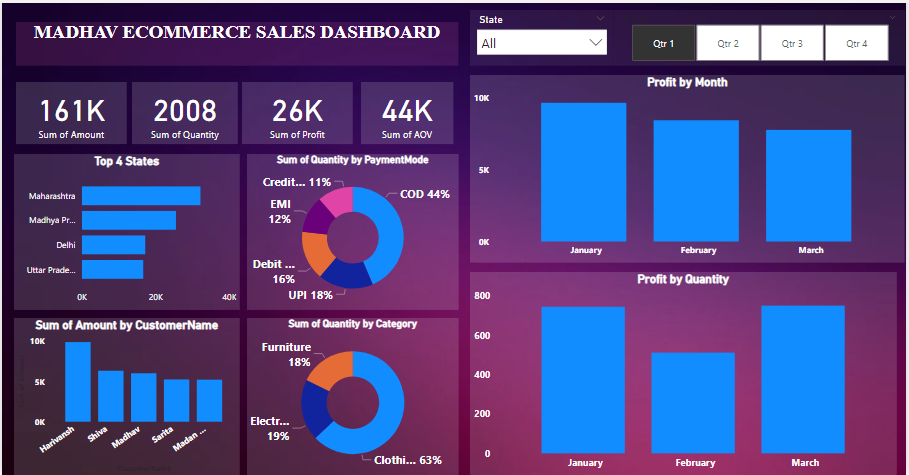

What the dashboard file says about the page in this screenshot:
{"tool":"powerbi","page":{"name":"Page 1","canvas":[1280,720],"ordinal":0},"visuals":[{"type":"textbox","box":[20.2,77.5,626.5,62.3],"z":0},{"type":"actionButton","box":[0,0,100,40],"z":1000},{"type":"columnChart","title":"Profit by Month","fields":{"Y":["Details.Profit"],"Category":["Orders.Order Date.Variation.Date Hierarchy.Month"]},"box":[663.6,153.3,616.4,266.1],"z":2000},{"type":"columnChart","title":"Profit by Quantity","fields":{"Category":["Orders.Order Date.Variation.Date Hierarchy.Month"],"Y":["Details.Quantity"]},"box":[663.6,432.8,604.6,288],"z":3000},{"type":"donutChart","fields":{"Y":["Details.Quantity"],"Category":["Details.Category"]},"box":[346.9,496.8,299.8,224],"z":4000},{"type":"donutChart","fields":{"Y":["Details.Quantity"],"Category":["Details.PaymentMode"]},"box":[346.9,264.4,299.8,220.6],"z":5000},{"type":"card","fields":{"Values":["Details.Amount"]},"box":[20.2,163.4,156.6,87.6],"z":6000},{"type":"card","fields":{"Values":["Details.Quantity"]},"box":[183.6,163.4,149.9,87.6],"z":7000},{"type":"card","fields":{"Values":["Details.Profit"]},"box":[340.2,163.4,156.6,87.6],"z":8000},{"type":"card","fields":{"Values":["Details.AOV"]},"box":[508.6,163.4,131.4,87.6],"z":9000},{"type":"barChart","title":"Top 4 States","fields":{"Category":["Orders.State"],"Y":["Details.Amount"]},"box":[16.8,264.4,320,220.6],"z":10000},{"type":"columnChart","fields":{"Category":["Orders.CustomerName"],"Y":["Details.Amount"]},"box":[16.8,496.8,320,224],"z":11000},{"type":"slicer","fields":{"Values":["Orders.State"]},"box":[663.6,60.6,203.8,79.2],"z":11001},{"type":"slicer","fields":{"Values":["Orders.Order Date.Variation.Date Hierarchy.Quarter"]},"box":[867.4,60.6,412.6,79.2],"z":11002}]}

Visuals, with their boxes on the page's 1280x720 design canvas (x1, y1, x2, y2). These are canvas units, not pixel positions in the 909x475 screenshot, which may show the page scaled, cropped or inside an application window:
textbox: bbox=[20, 78, 647, 140]
actionButton: bbox=[0, 0, 100, 40]
"Profit by Month" columnChart: bbox=[664, 153, 1280, 419]
"Profit by Quantity" columnChart: bbox=[664, 433, 1268, 721]
donutChart - Details.Quantity x Details.Category: bbox=[347, 497, 647, 721]
donutChart - Details.Quantity x Details.PaymentMode: bbox=[347, 264, 647, 485]
card - Details.Amount: bbox=[20, 163, 177, 251]
card - Details.Quantity: bbox=[184, 163, 334, 251]
card - Details.Profit: bbox=[340, 163, 497, 251]
card - Details.AOV: bbox=[509, 163, 640, 251]
"Top 4 States" barChart: bbox=[17, 264, 337, 485]
columnChart - Orders.CustomerName x Details.Amount: bbox=[17, 497, 337, 721]
slicer - Orders.State: bbox=[664, 61, 867, 140]
slicer - Orders.Order Date.Variation.Date Hierarchy.Quarter: bbox=[867, 61, 1280, 140]
